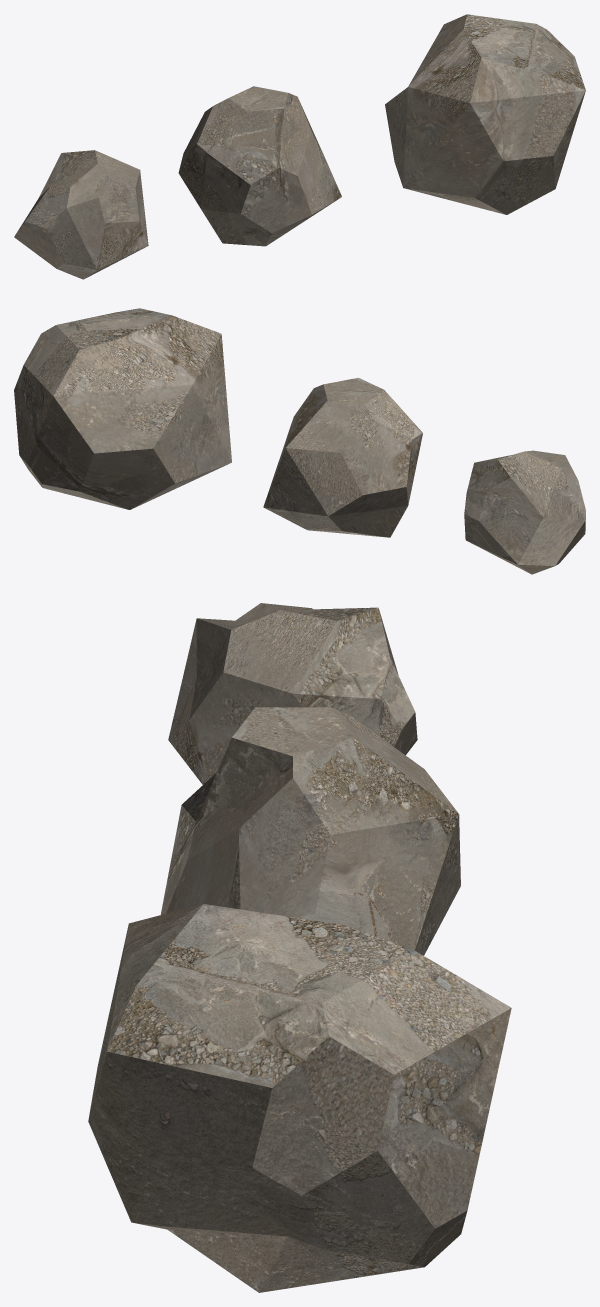
File: meteors.fbx
3 views of the same model, one above another, from view 1: azimuth 30°, elevation 25°; view 2: azimuth 150°, elevation 25°; view 3: azimuth 270°, elevation 25° (orthographic). The views are drawn at different scales.
Visible parts, largest first — view 1: meteor_l, metero_m, meteor_s; view 2: meteor_l, metero_m, meteor_s; view 3: meteor_l, metero_m, meteor_s.
Part boxes in pixels (x1,y1,x2,y2): meteor_l: [385, 14, 585, 214]; metero_m: [178, 86, 341, 246]; meteor_s: [14, 150, 148, 279]; meteor_l: [14, 308, 231, 509]; metero_m: [263, 377, 422, 537]; meteor_s: [464, 450, 585, 574]; meteor_l: [88, 904, 511, 1292]; metero_m: [160, 707, 460, 955]; meteor_s: [168, 603, 417, 784].
Bounding box in the file's own units: 514 × 156 × 173.
1 material, 1 textured.
